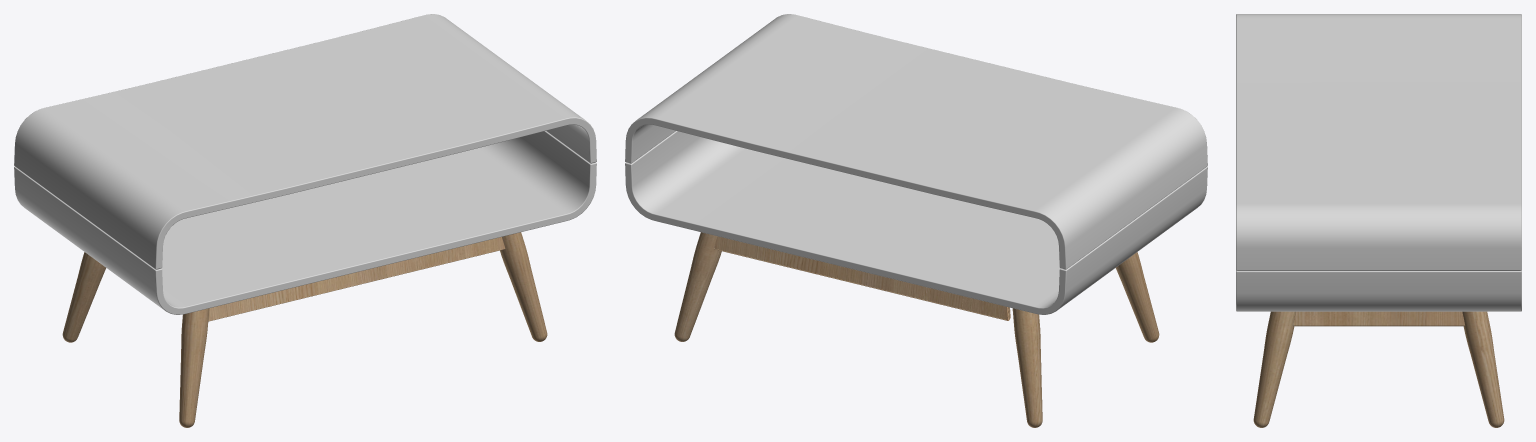
File: CoffeeTable.fbx
The picture shows the model from 3 angles, left to right: view 1: azimuth 30°, elevation 25°; view 2: azimuth 150°, elevation 25°; view 3: azimuth 270°, elevation 25°; orthographic projection.
Parts seen in each view (by area): view 1: Esme_Compact_Coffee_Table_Ash; view 2: Esme_Compact_Coffee_Table_Ash; view 3: Esme_Compact_Coffee_Table_Ash.
Part boxes in pixels (bbox=[...]): Esme_Compact_Coffee_Table_Ash: bbox=[14, 14, 596, 427]; Esme_Compact_Coffee_Table_Ash: bbox=[625, 14, 1207, 427]; Esme_Compact_Coffee_Table_Ash: bbox=[1236, 14, 1521, 427].
Bounding box in the file's own units: 90.09 × 44.52 × 50.17.
